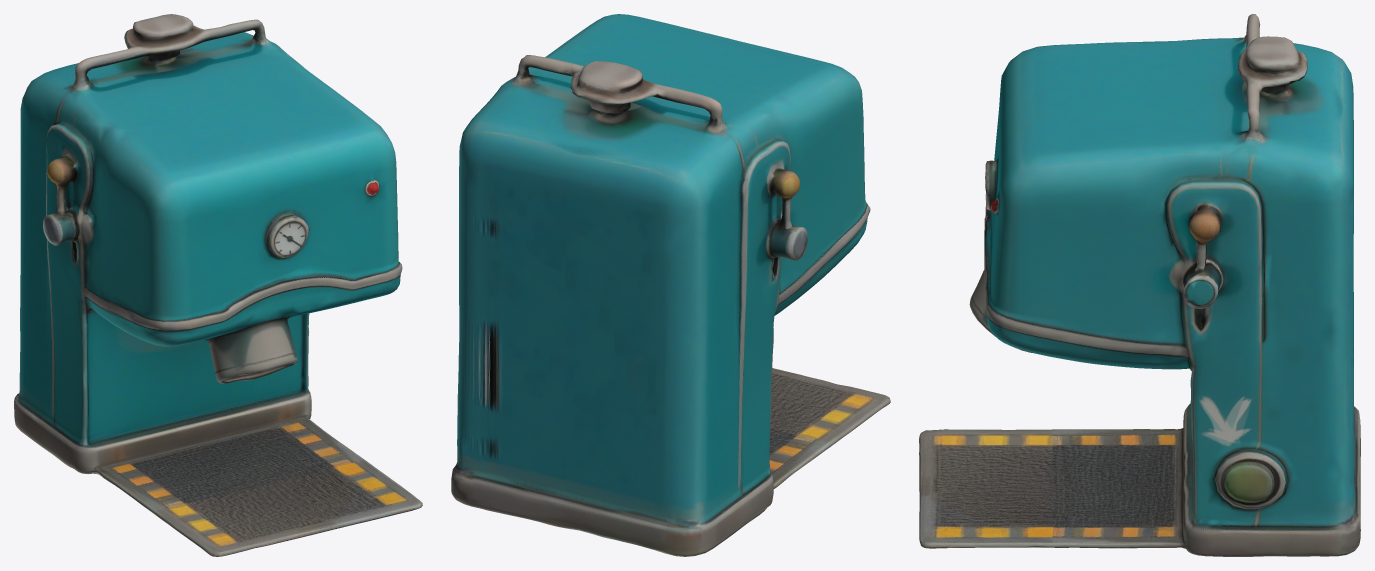
The model's file is CargoMachine.fbx.
3 views of the same model, side by side, from view 1: azimuth 30°, elevation 25°; view 2: azimuth 150°, elevation 25°; view 3: azimuth 270°, elevation 25° (orthographic). The views are drawn at different scales.
Parts seen in each view (by area): view 1: Mesh_0; view 2: Mesh_0; view 3: Mesh_0.
Boxes of the visible parts, bbox=[...] form: Mesh_0: bbox=[14, 14, 422, 556]; Mesh_0: bbox=[451, 14, 890, 556]; Mesh_0: bbox=[919, 14, 1360, 556].
Bounding box in the file's own units: 150 × 200 × 179.
1 material, 1 textured.
